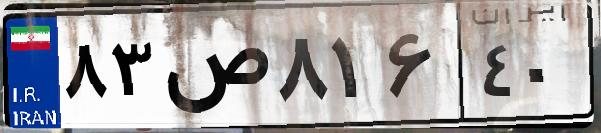0: (525, 38, 570, 115)
1: (330, 28, 385, 110)
3: (110, 28, 158, 98)
4: (475, 38, 525, 113)
6: (385, 28, 445, 110)
8: (270, 28, 330, 110), (57, 26, 110, 100)
ص: (158, 20, 270, 120)
